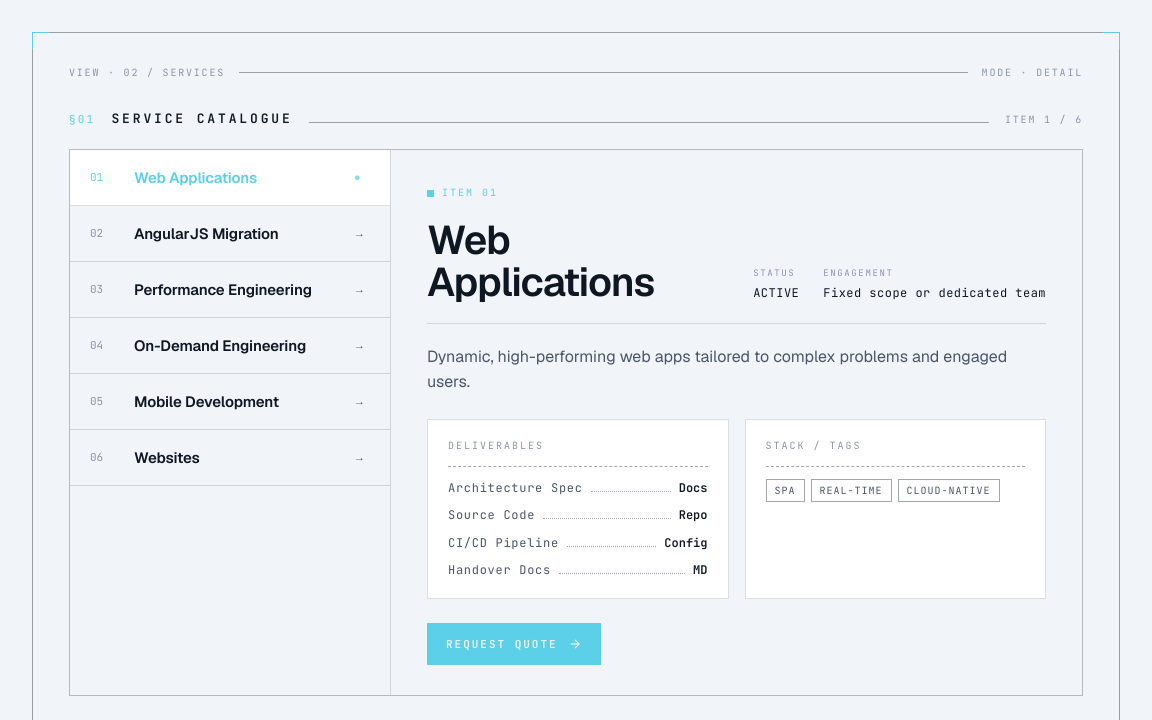
ServicesComponent › shows how clients engage for the selected service
Click the tab with class "cc-svc-row" showing "04 On-Demand Engineering →" at (230, 346), box [70,318,390,374]
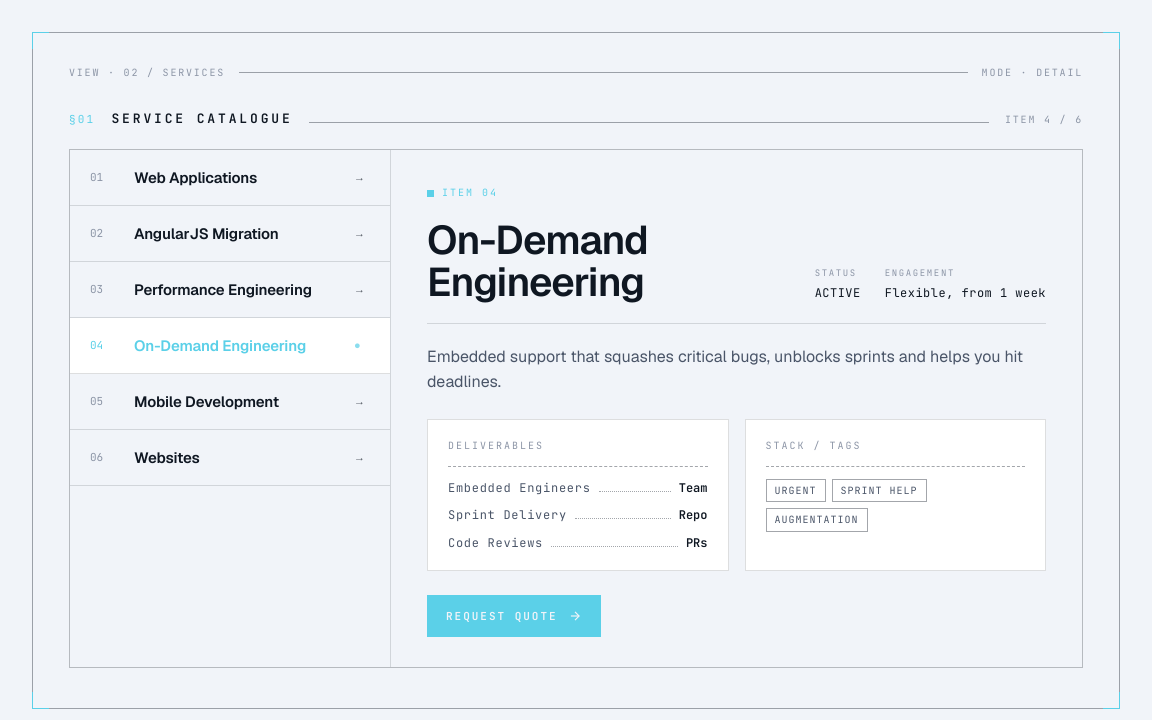
Expected: the text with class "cc-meta-cell__value" reads "Flexible, from 1 week", [885,285,1046,301]
